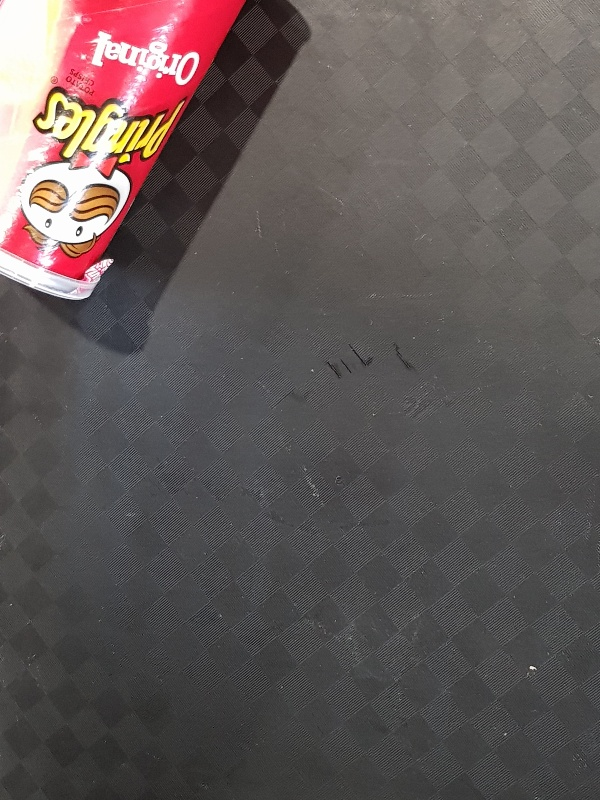Pringles Original: (1, 1, 247, 301)
